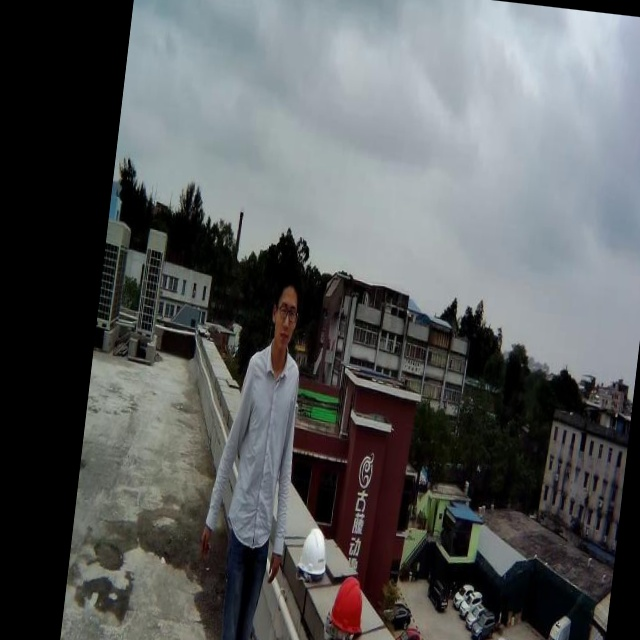Con_Casco: (325, 574, 368, 640), (295, 526, 332, 588)
Sin_Chaleco: (227, 345, 303, 556)
